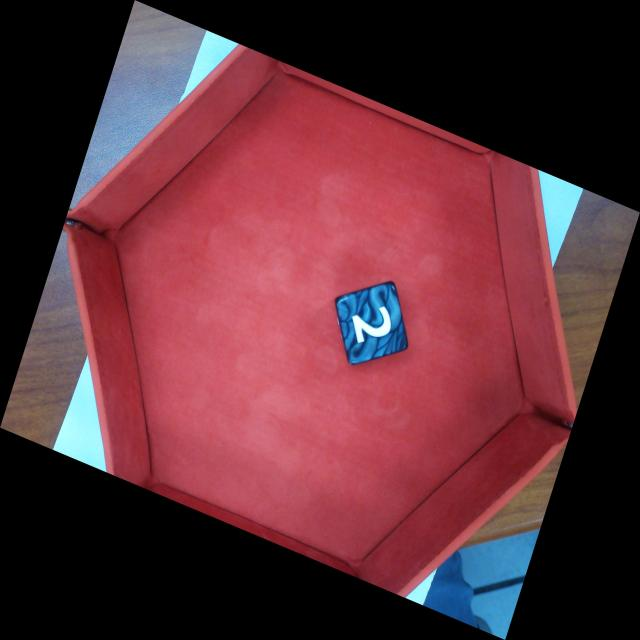dice: (337, 279, 407, 365)
